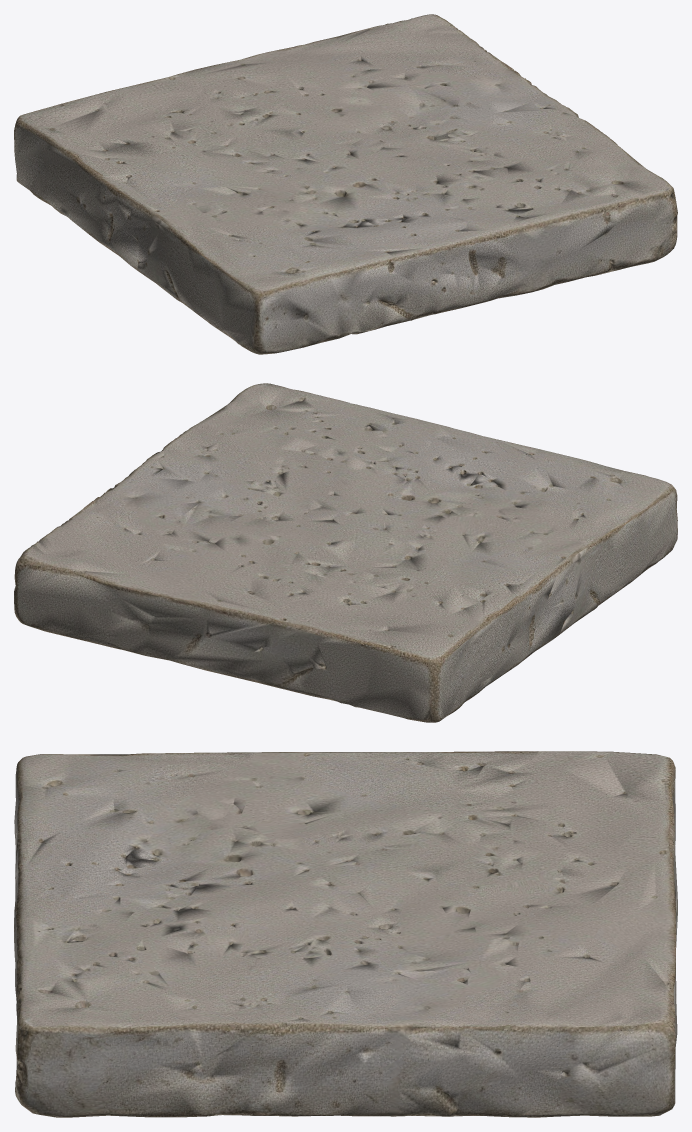
The model's file is pnl_slab.glb.
3 renders of one model, top to bottom at view 1: azimuth 30°, elevation 25°; view 2: azimuth 150°, elevation 25°; view 3: azimuth 270°, elevation 25°, orthographic. The views are drawn at different scales.
Visible parts, largest first — view 1: tripo_node_7273629e-ee3f-4da5-a77a-b1927d6b4c12; view 2: tripo_node_7273629e-ee3f-4da5-a77a-b1927d6b4c12; view 3: tripo_node_7273629e-ee3f-4da5-a77a-b1927d6b4c12.
Boxes of the visible parts, x1,y1,x2,y2 form: tripo_node_7273629e-ee3f-4da5-a77a-b1927d6b4c12: (14, 14, 677, 354); tripo_node_7273629e-ee3f-4da5-a77a-b1927d6b4c12: (14, 383, 677, 722); tripo_node_7273629e-ee3f-4da5-a77a-b1927d6b4c12: (14, 751, 677, 1117).
Bounding box in the file's own units: 0.3037 × 0.0499 × 0.304.
Materials: 1 (1 with a texture image).
